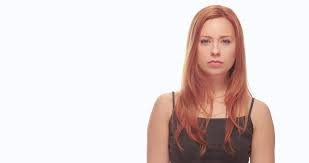white_female: (190, 13, 242, 80)
